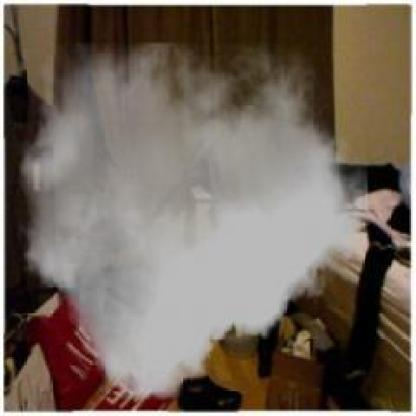Smoke: (19, 43, 368, 400)
